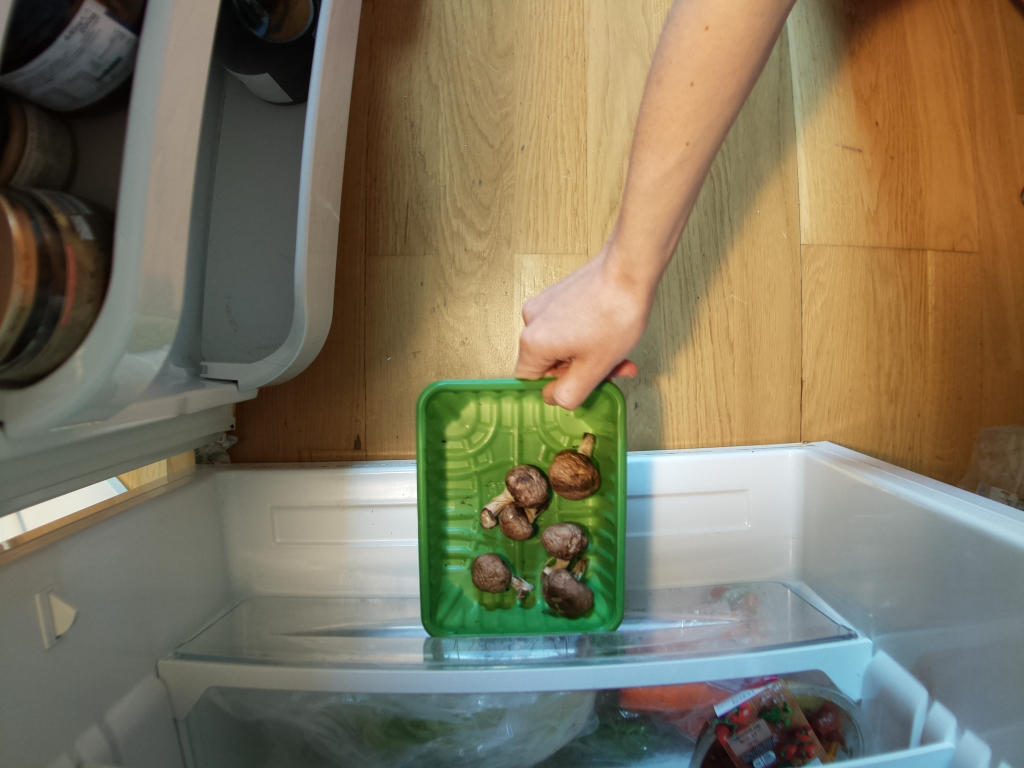mushrooms-bad: (413, 367, 629, 656)
